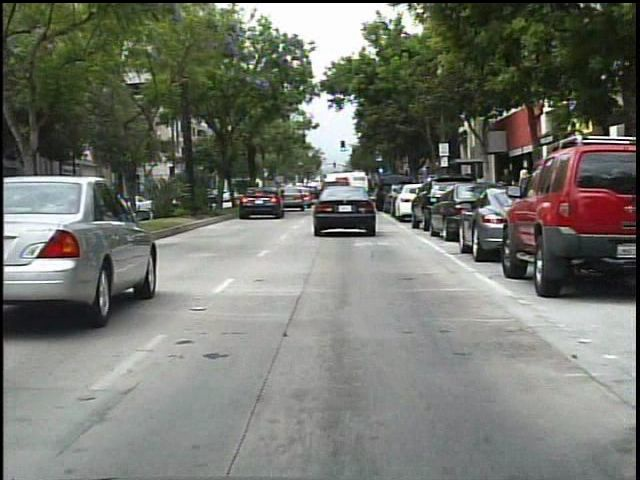person: (493, 159, 518, 221)
